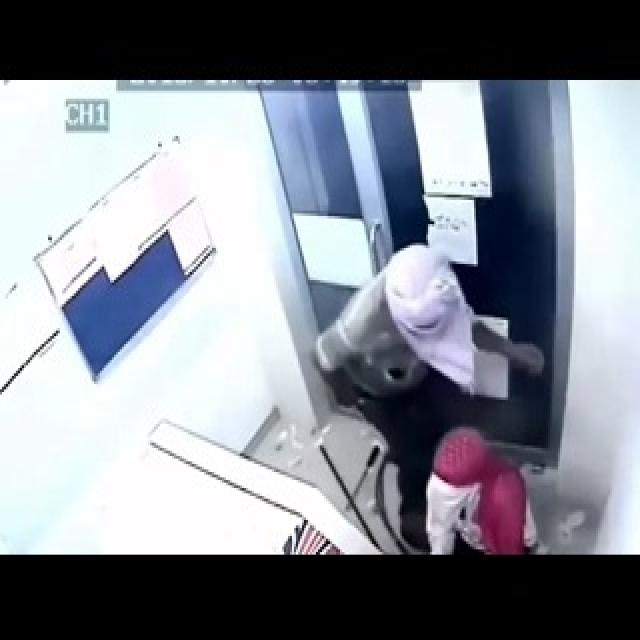thief: (339, 257, 558, 544)
